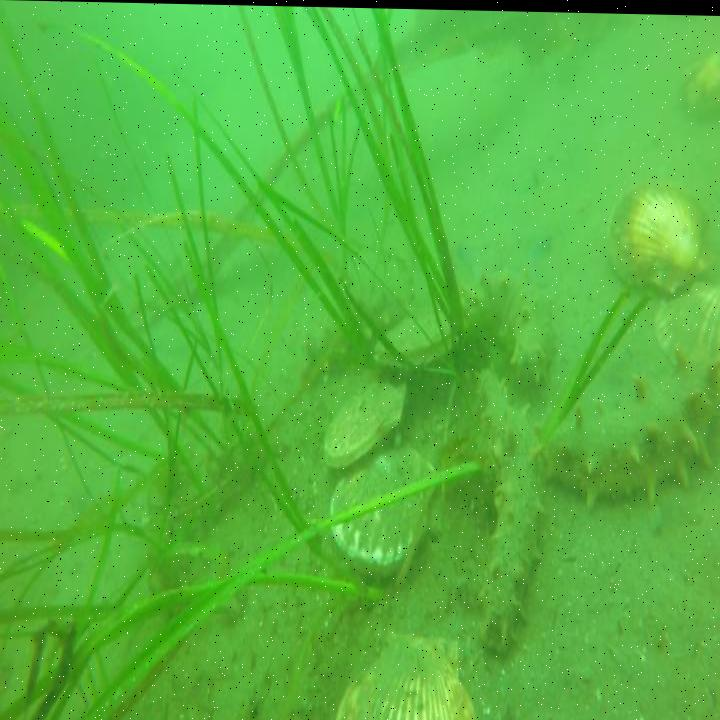holothurian: (549, 342, 720, 507), (473, 362, 548, 655), (465, 252, 563, 392), (299, 268, 414, 380)
scallop: (325, 623, 485, 720), (330, 441, 440, 578), (605, 167, 715, 302), (320, 368, 410, 473), (372, 287, 472, 376), (652, 276, 720, 379), (681, 35, 720, 132)
